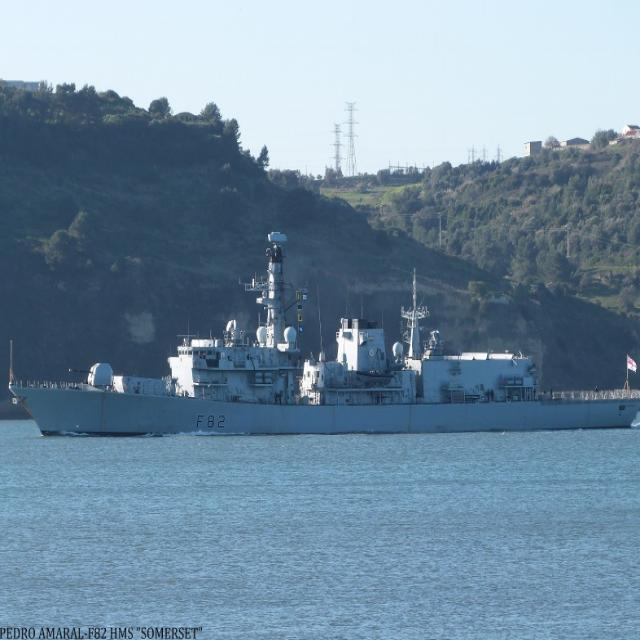Fragata: (6, 224, 640, 447)
